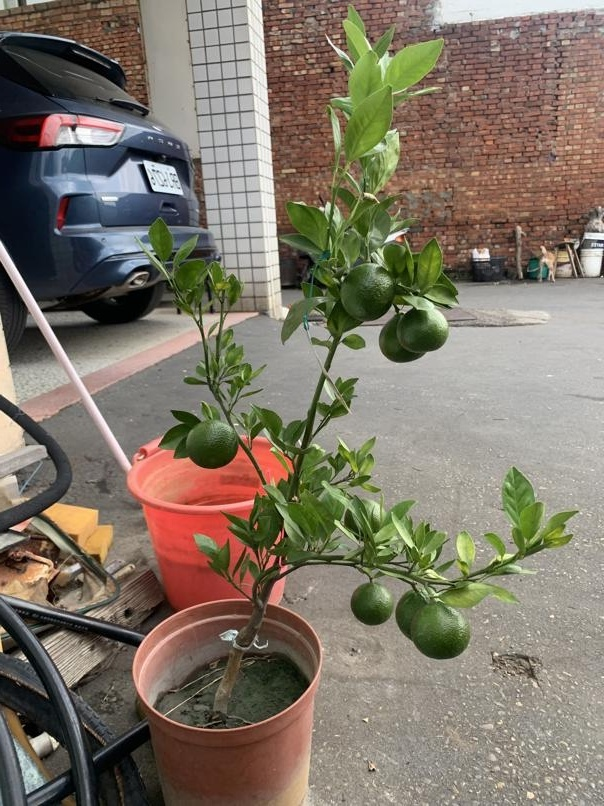Tangerine: (337, 260, 397, 325), (413, 603, 472, 659), (349, 576, 400, 628), (399, 302, 452, 352), (187, 417, 237, 469)
